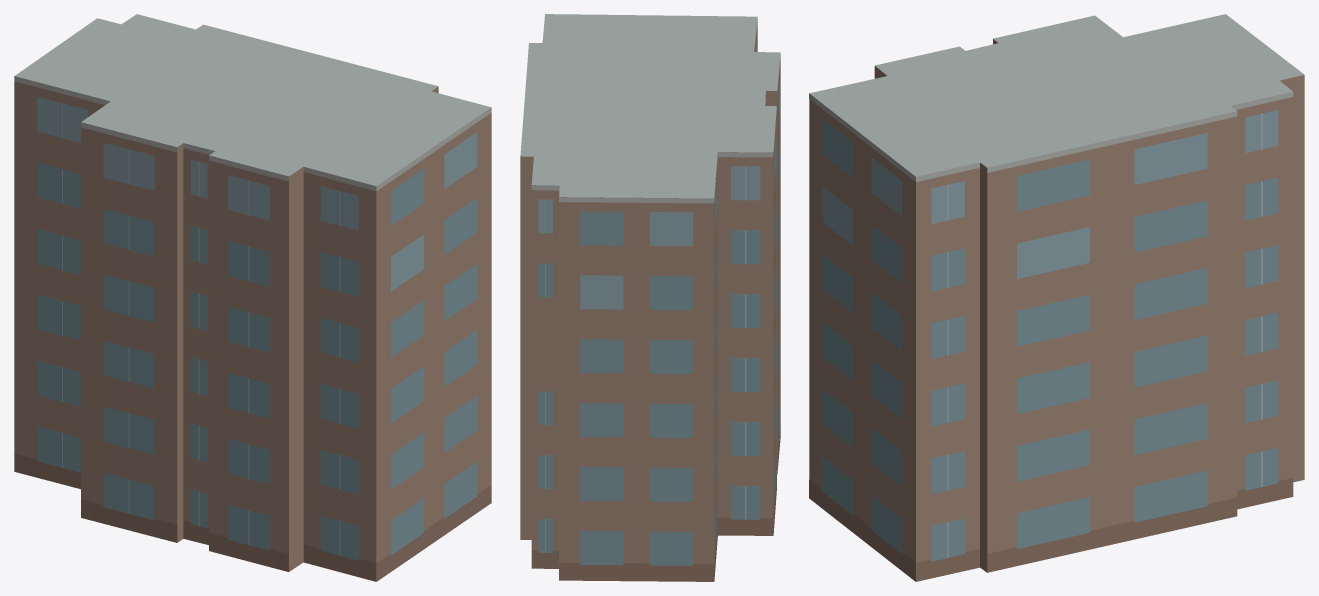
File: survey-upis-32627871.glb
3 renders of one model, left to right at view 1: azimuth 30°, elevation 25°; view 2: azimuth 150°, elevation 25°; view 3: azimuth 270°, elevation 25°, orthographic. The views are drawn at different scales.
Visible parts, largest first — view 1: survey-upis-32627871.tmp; view 2: survey-upis-32627871.tmp; view 3: survey-upis-32627871.tmp.
Part boxes in pixels (left/top/right/bottom): survey-upis-32627871.tmp: left=14, top=14, right=491, bottom=581; survey-upis-32627871.tmp: left=520, top=14, right=780, bottom=581; survey-upis-32627871.tmp: left=809, top=14, right=1304, bottom=581.
Size of the model in its own units: 16 by 18.55 by 20.57.
